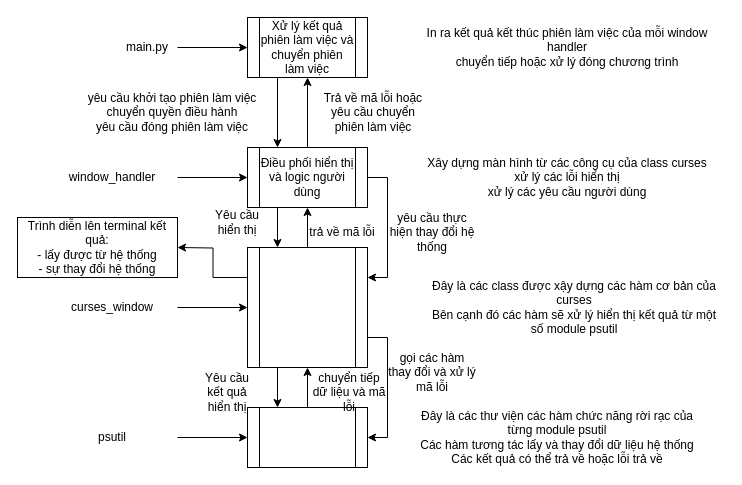
The diagram is 742 pixels wide and 485 high, and some of its shapes have lost their labels. The centre of each missing label's shape, as x and y in pixels:
Xử lý các kết quả mong muốn & tổ chức lớp chức năng hiển thị cơ bản: the point at 307,307
Xử lý dữ liệu và trả về kết quả, các lỗi: the point at 307,437
